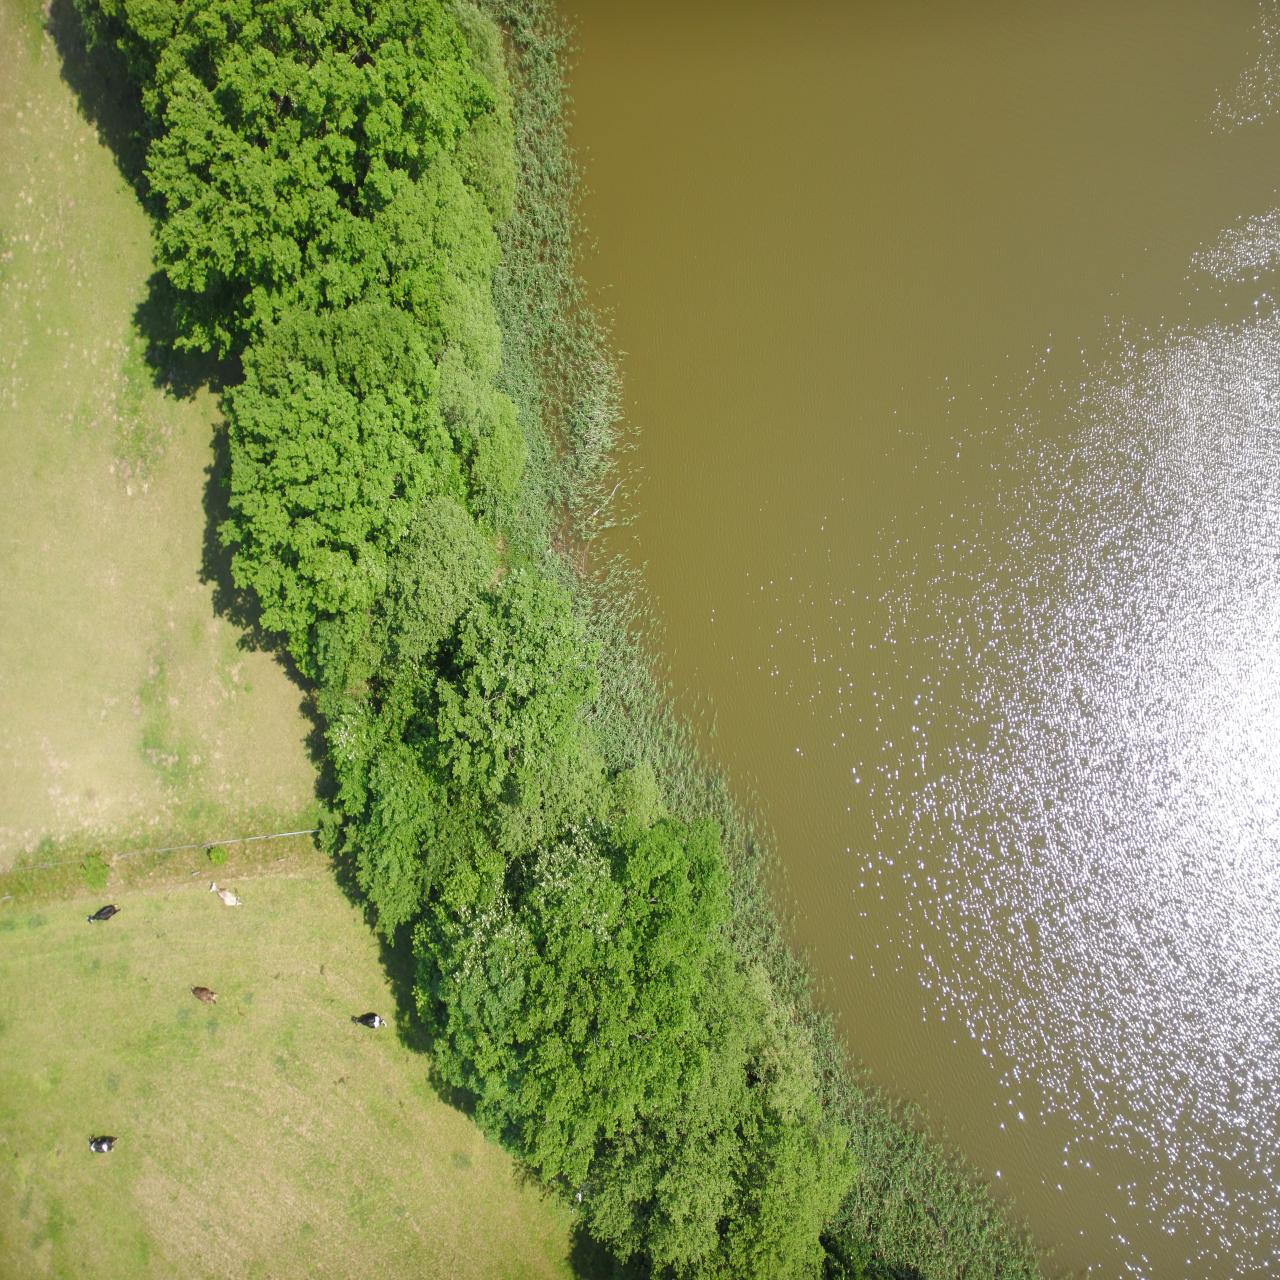cow: (1036, 373, 1069, 399), (1157, 355, 1193, 377), (1061, 273, 1089, 295), (1162, 125, 1191, 145), (892, 251, 927, 267)
